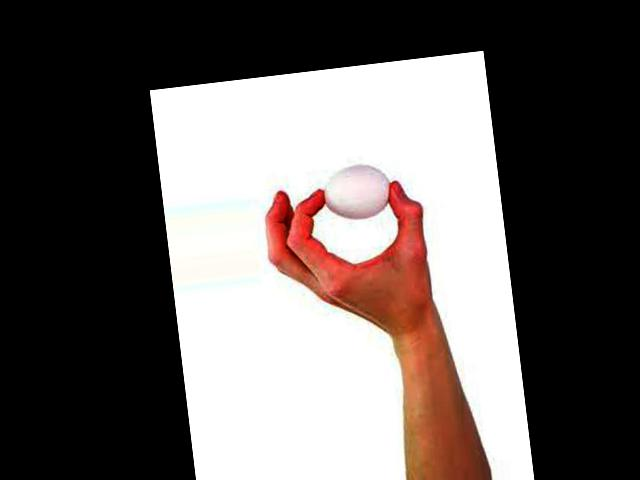egg: (320, 161, 393, 223)
